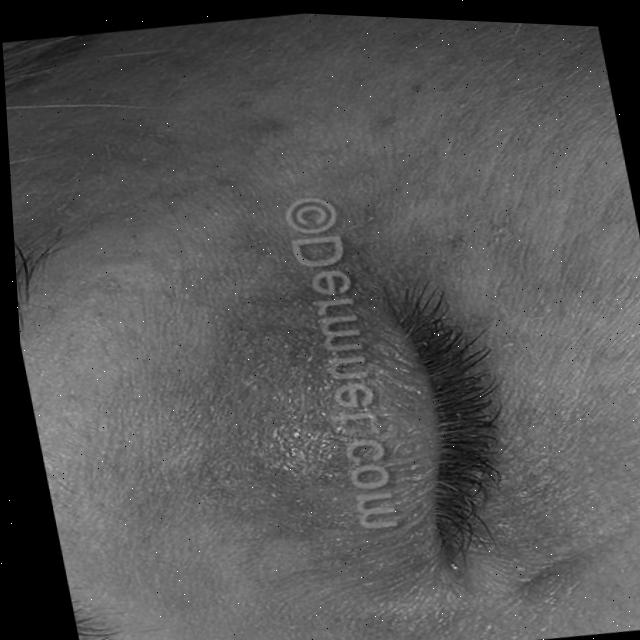Eczema: (137, 273, 410, 576)
